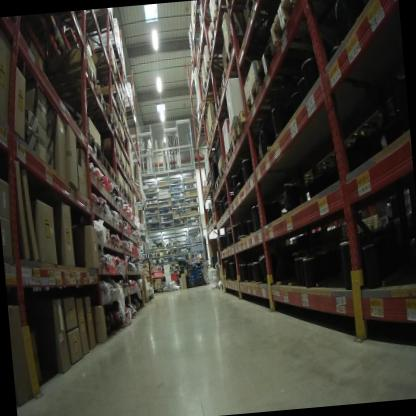pallet: (253, 29, 339, 91), (265, 0, 363, 53), (240, 66, 337, 118), (75, 109, 119, 184), (232, 105, 283, 142), (48, 59, 98, 95), (55, 87, 110, 114), (221, 36, 258, 74), (220, 63, 261, 94), (209, 9, 251, 38), (43, 25, 72, 63), (89, 59, 119, 86), (212, 86, 236, 116), (204, 34, 230, 61), (204, 58, 230, 82), (202, 121, 218, 160), (204, 78, 226, 103), (196, 104, 216, 130), (95, 147, 112, 176), (84, 135, 103, 160), (108, 96, 126, 120), (213, 0, 252, 10), (106, 149, 124, 167), (218, 163, 228, 185), (231, 137, 243, 155), (111, 180, 125, 195), (116, 134, 128, 149), (213, 174, 221, 194), (225, 150, 233, 168), (120, 117, 129, 133), (206, 174, 214, 189), (212, 211, 220, 226), (209, 215, 216, 231), (204, 186, 210, 198)
